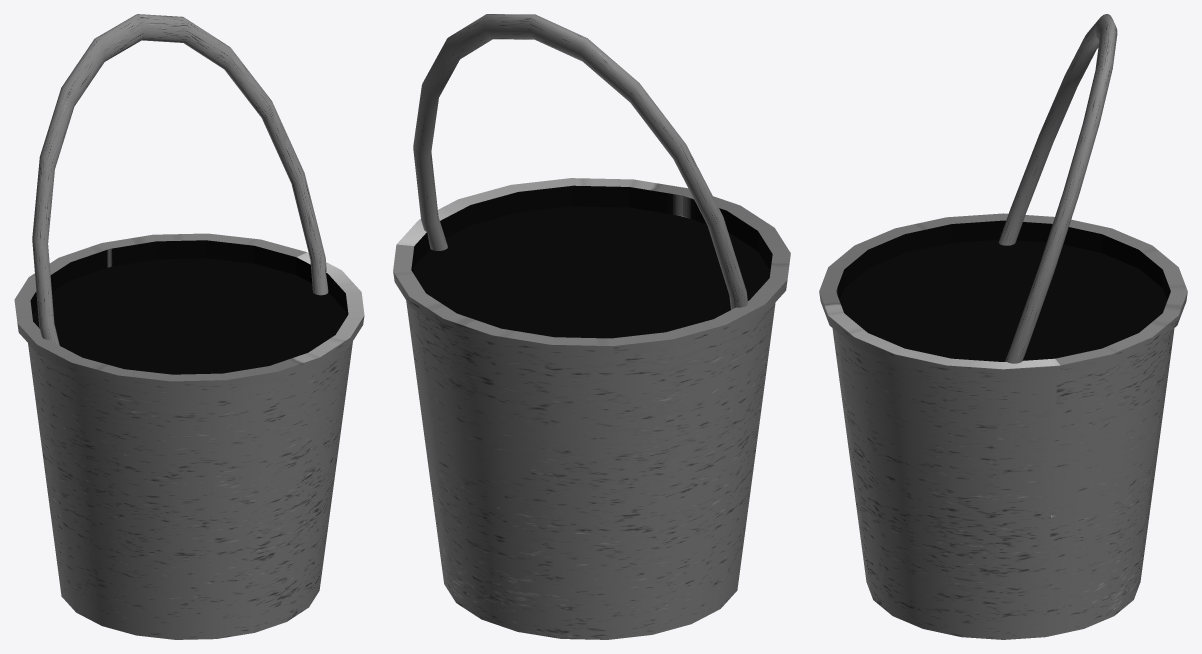
The model's file is TexturedBucketReal.fbx.
The picture shows the model from 3 angles, left to right: view 1: azimuth 30°, elevation 25°; view 2: azimuth 150°, elevation 25°; view 3: azimuth 270°, elevation 25°; orthographic projection. The views are drawn at different scales.
Parts seen in each view (by area): view 1: pCylinder1, pTorus1; view 2: pCylinder1, pTorus1; view 3: pCylinder1, pTorus1.
Boxes of the visible parts, x1=… form: pCylinder1: x1=14, y1=233, x2=364, y2=639; pTorus1: x1=32, y1=14, x2=328, y2=345; pCylinder1: x1=393, y1=178, x2=790, y2=639; pTorus1: x1=413, y1=14, x2=747, y2=309; pCylinder1: x1=819, y1=213, x2=1187, y2=639; pTorus1: x1=998, y1=14, x2=1117, y2=363.
Bounding box in the file's own units: 8.82 × 14.74 × 8.82.
Materials: 1 (1 with a texture image).
